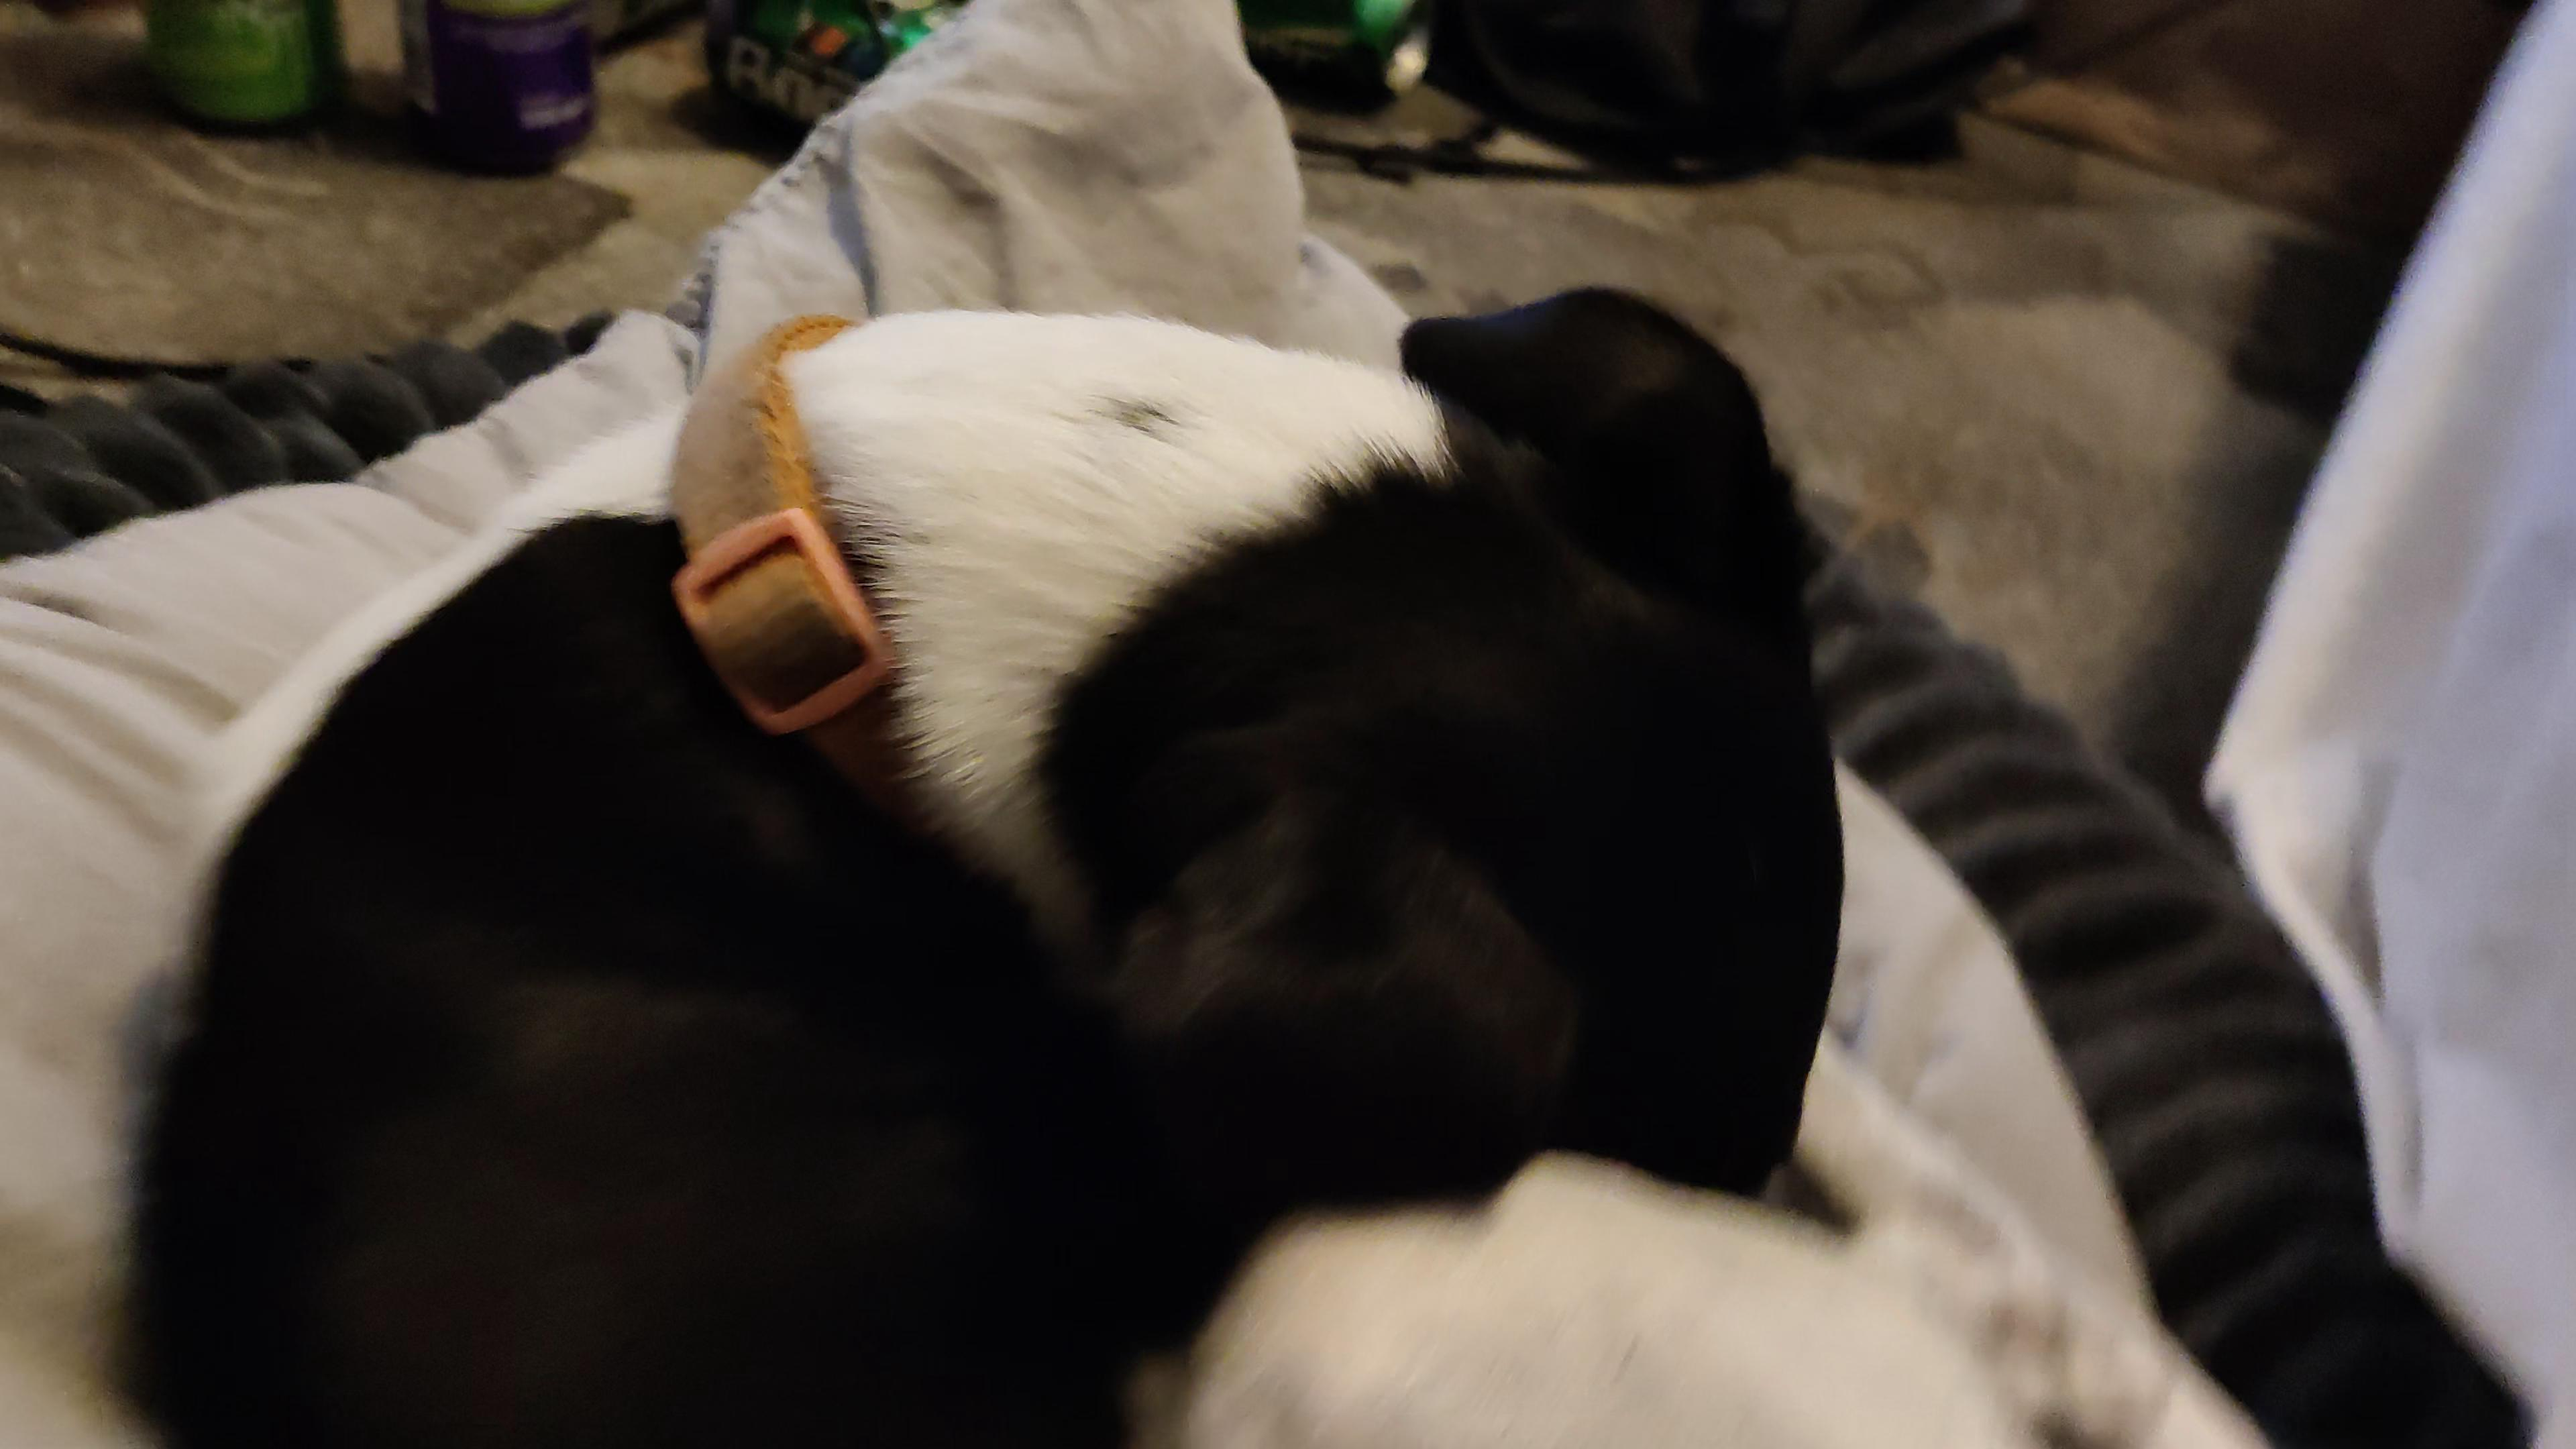Dog: (133, 255, 2279, 1449)
